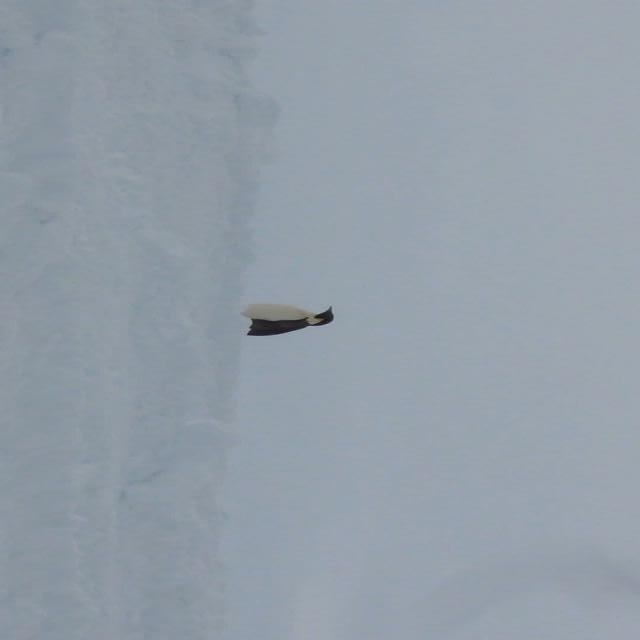penguin: (240, 304, 335, 335)
